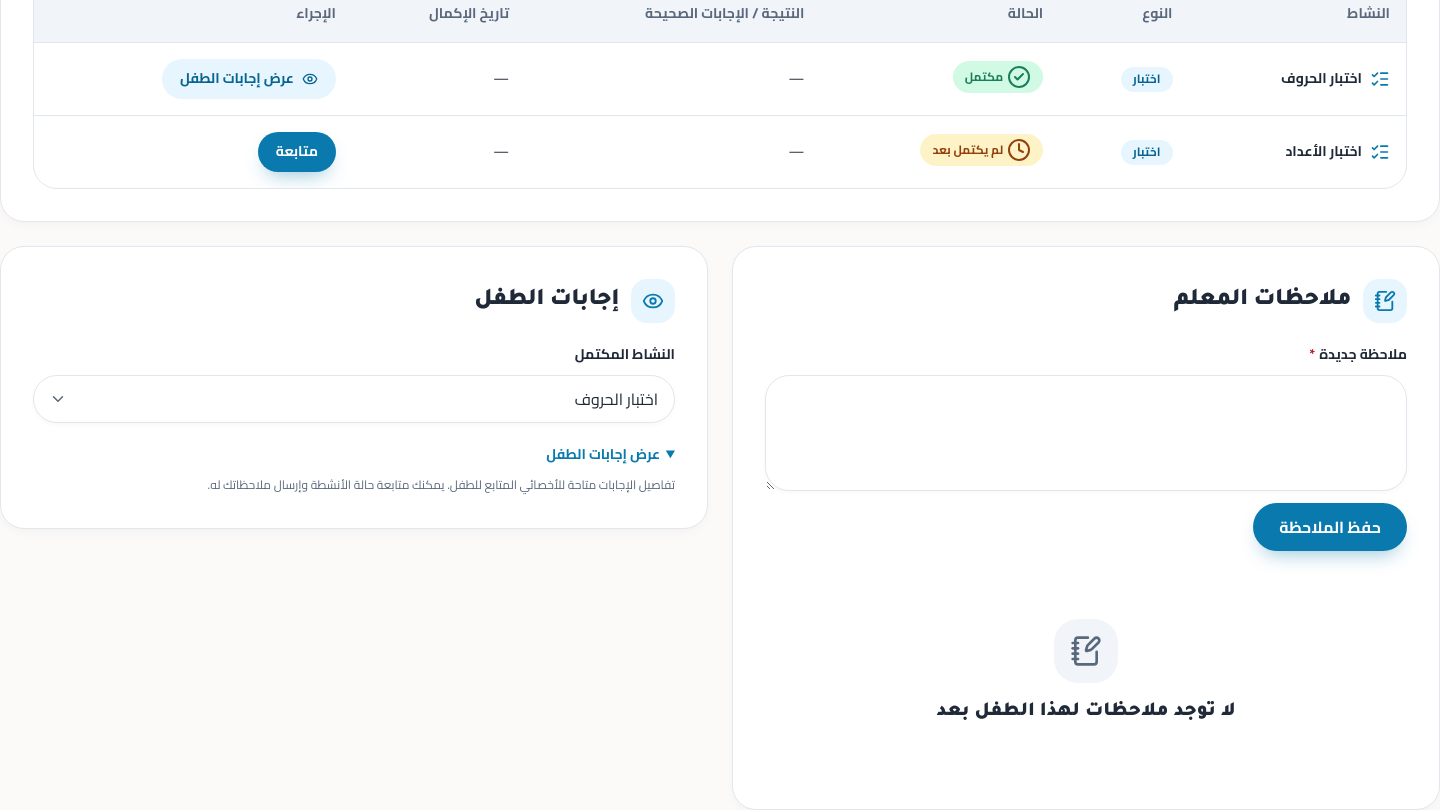
Test case: TeacherChildPage — plan-focused view (client revision 2026-10) › shows the server error when saving fails and keeps the text
The width and height of the screenshot is (1440, 810).
(page scrolled)
Expected: the element "ملاحظات المعلم" is shown, [732,246,1439,809]
Type "نص" into the text box labelled "ملاحظة جديدة*". click: (1086, 433)
box: [765,375,1407,491]
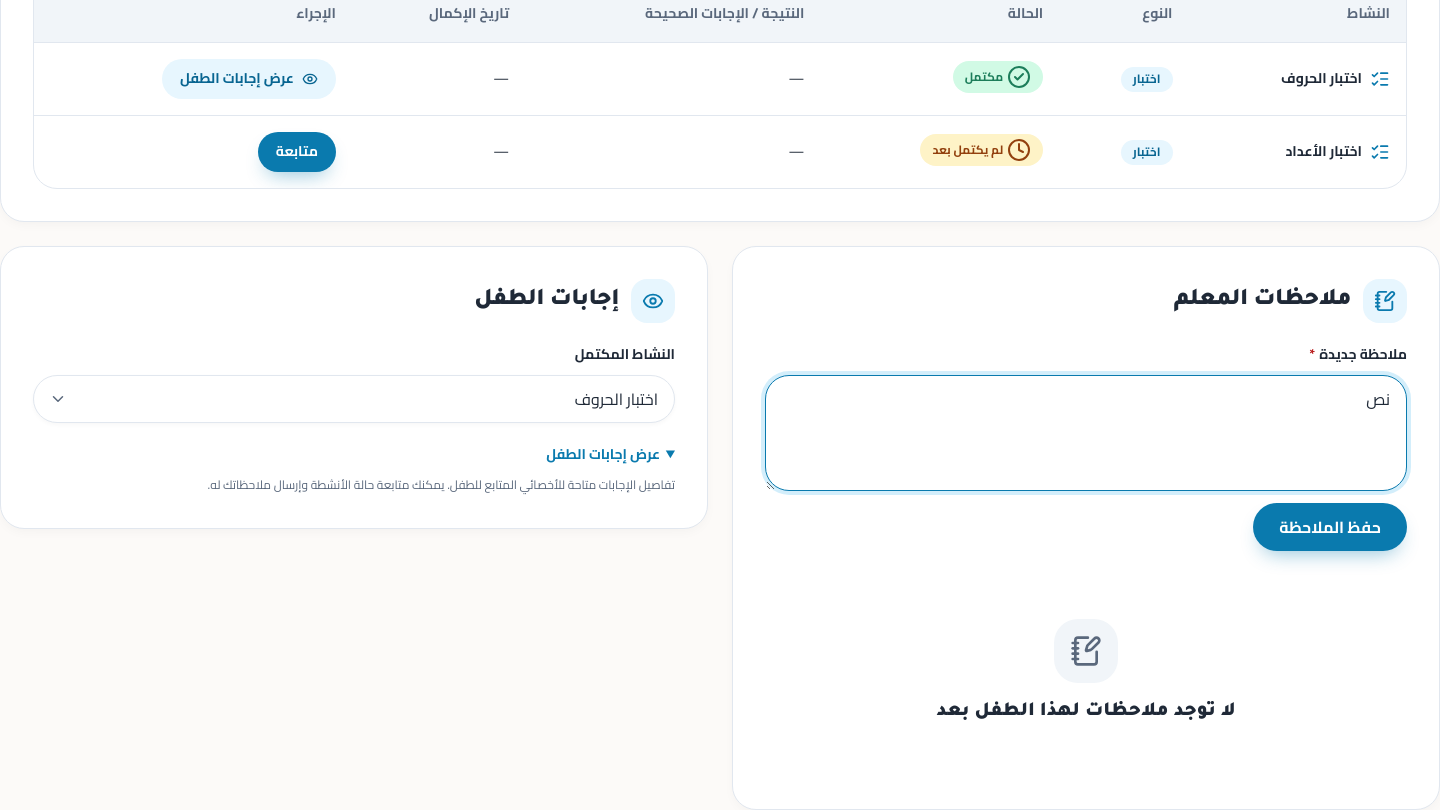
Click the button "حفظ الملاحظة". click: (1330, 526)
box: [1253,502,1407,550]
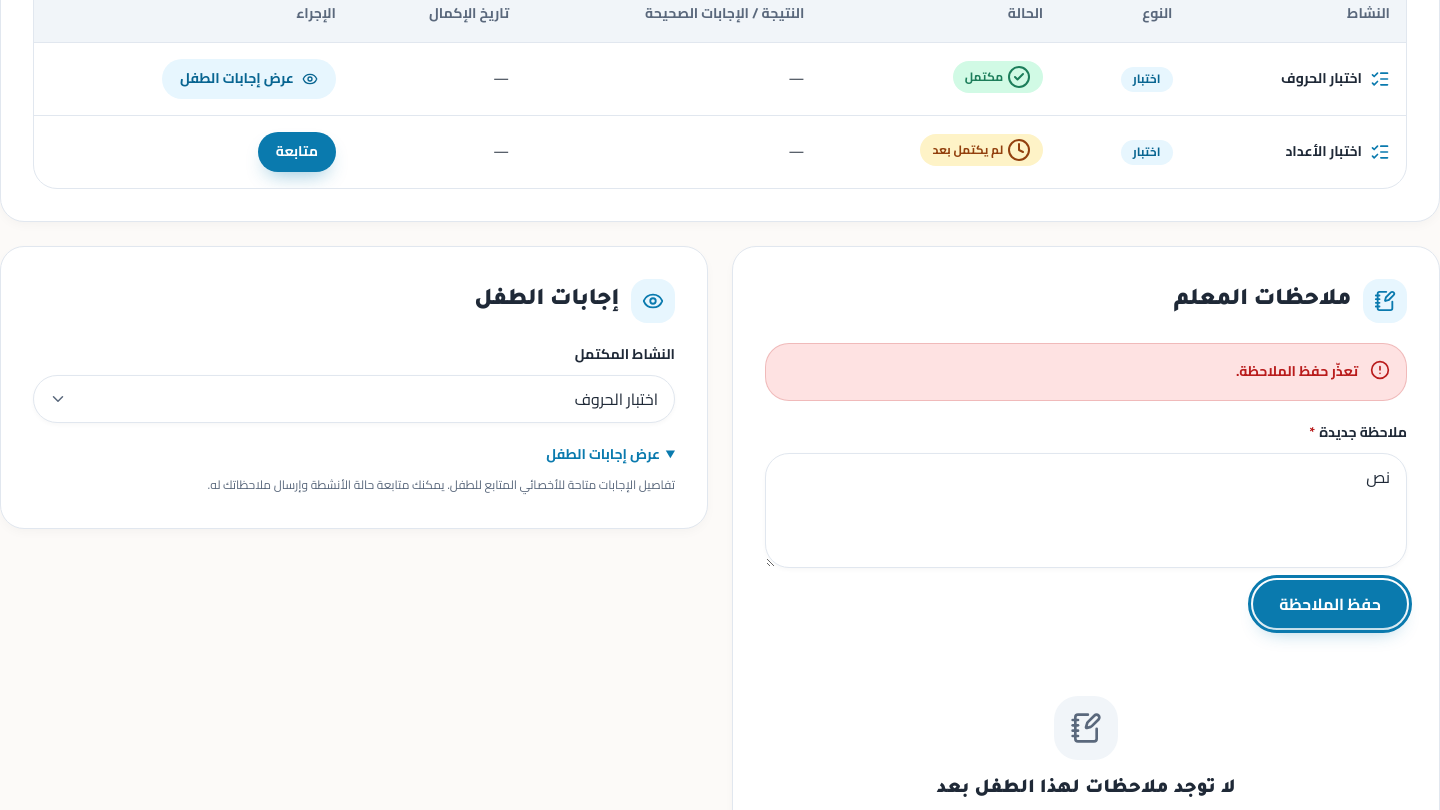
Now the text "تعذّر حفظ الملاحظة." is shown, box [1236,360,1358,384]
